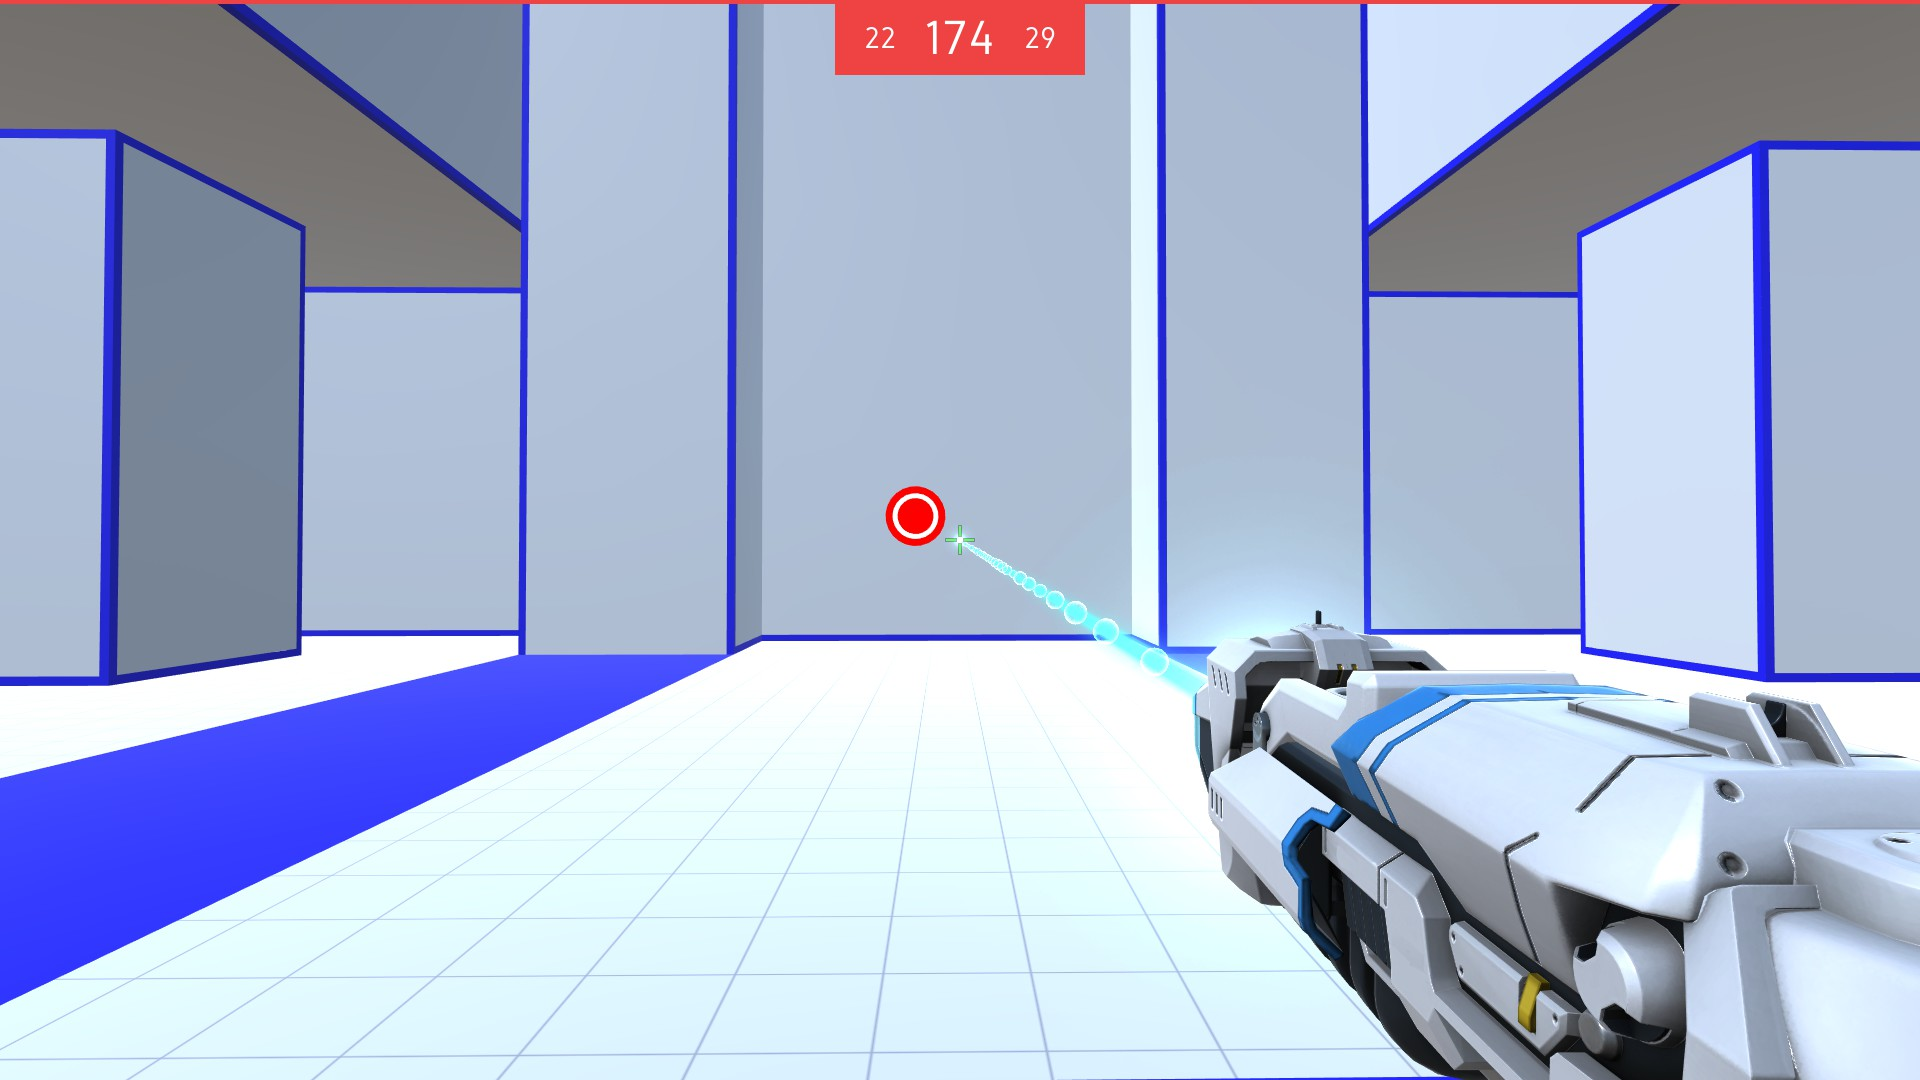target: (881, 483, 949, 549)
